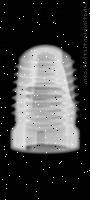Camlog: (10, 42, 80, 153)
